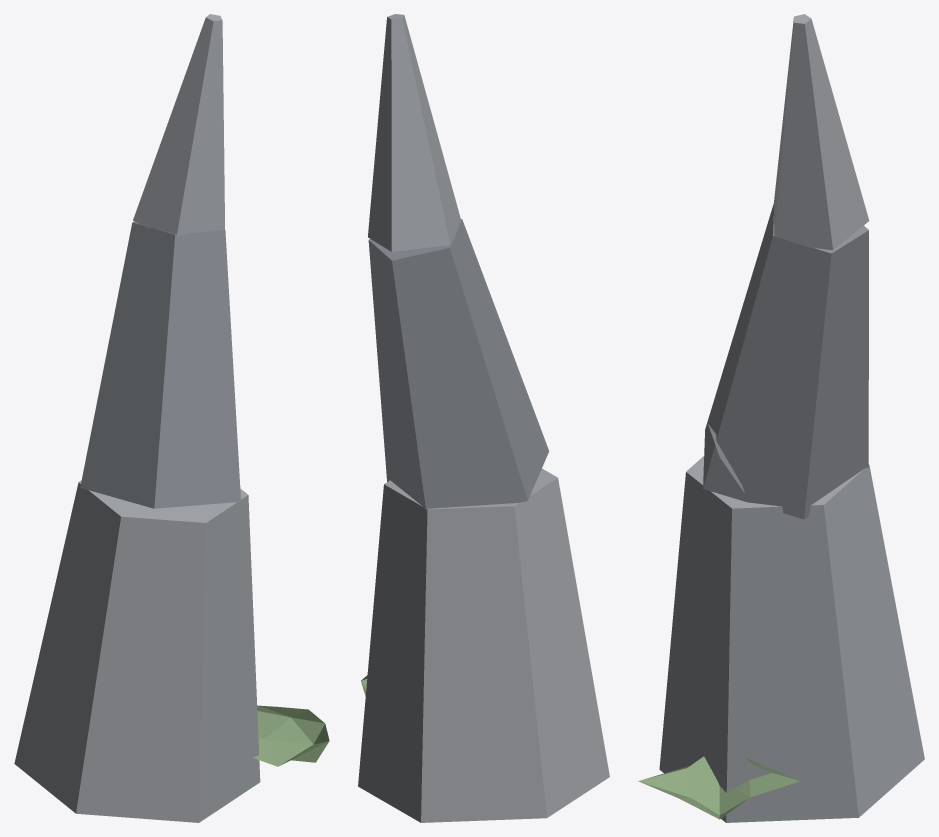
File: rock_spire.glb
3 renders of one model, left to right at view 1: azimuth 30°, elevation 25°; view 2: azimuth 150°, elevation 25°; view 3: azimuth 270°, elevation 25°, orthographic. The views are drawn at different scales.
Visible parts, largest first — view 1: lod0; view 2: lod0; view 3: lod0.
Part boxes in pixels (x1,y1,x2,y2): lod0: [14, 14, 329, 822]; lod0: [358, 14, 609, 822]; lod0: [638, 14, 924, 822].
Size of what is drawn, in the model's own units: 1.27 by 3.65 by 1.19.
